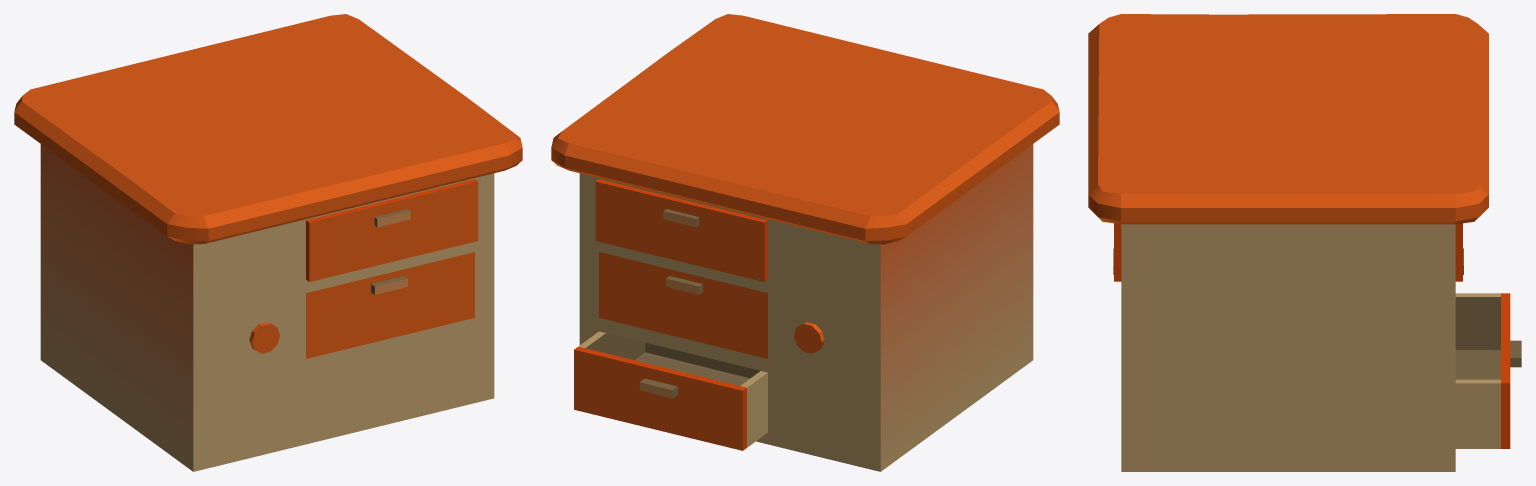
File: Bench_island_mesh_vc.fbx
3 renders of one model, left to right at view 1: azimuth 30°, elevation 25°; view 2: azimuth 150°, elevation 25°; view 3: azimuth 270°, elevation 25°, orthographic. The views are drawn at different scales.
Visible parts, largest first — view 1: polySurface4; view 2: polySurface4; view 3: polySurface4.
Part boxes in pixels (x1,y1,x2,y2): polySurface4: (14, 14, 522, 471); polySurface4: (551, 14, 1059, 471); polySurface4: (1088, 14, 1521, 471).
Bounding box in the file's own units: 1885 × 1342 × 1832.
